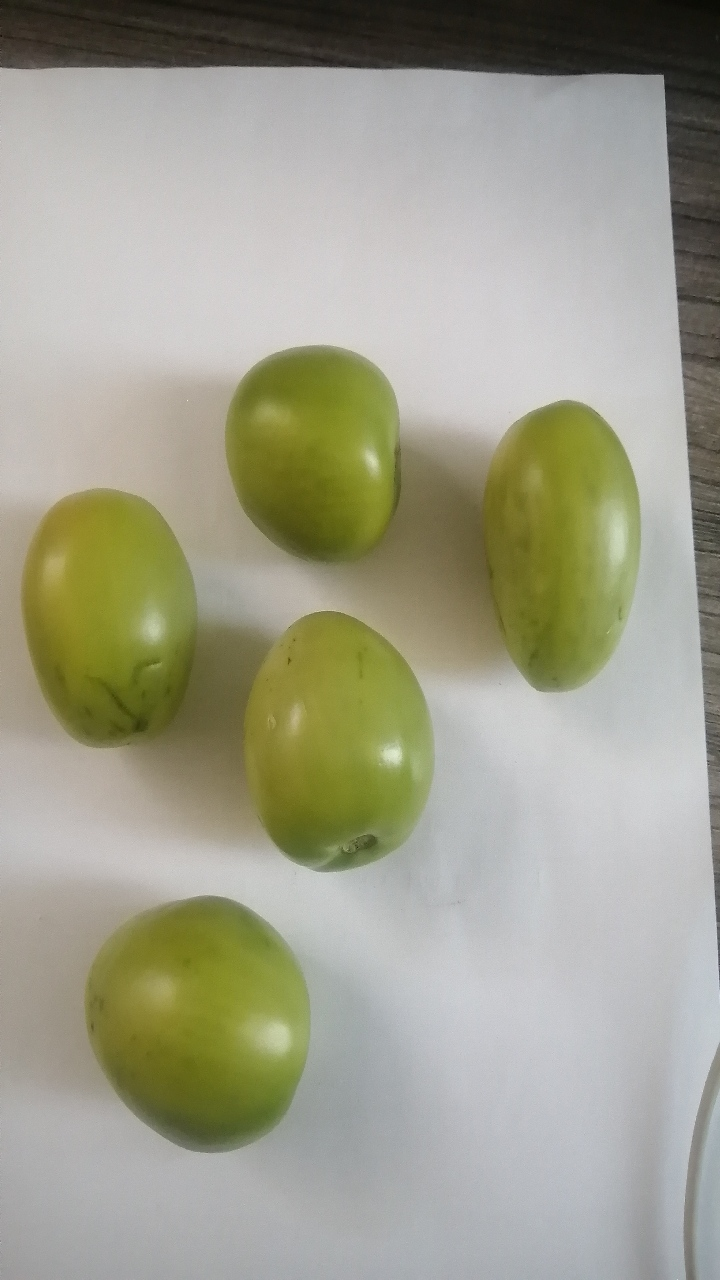tomateVerde: (54, 877, 321, 1168), (224, 592, 451, 899), (461, 391, 651, 723), (206, 315, 426, 585), (14, 479, 208, 751)
